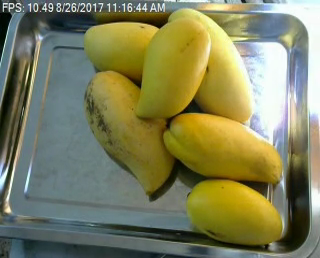Mango: (84, 69, 175, 194), (168, 7, 252, 122), (163, 112, 282, 179), (137, 18, 211, 116), (185, 179, 282, 244), (84, 21, 160, 80)
